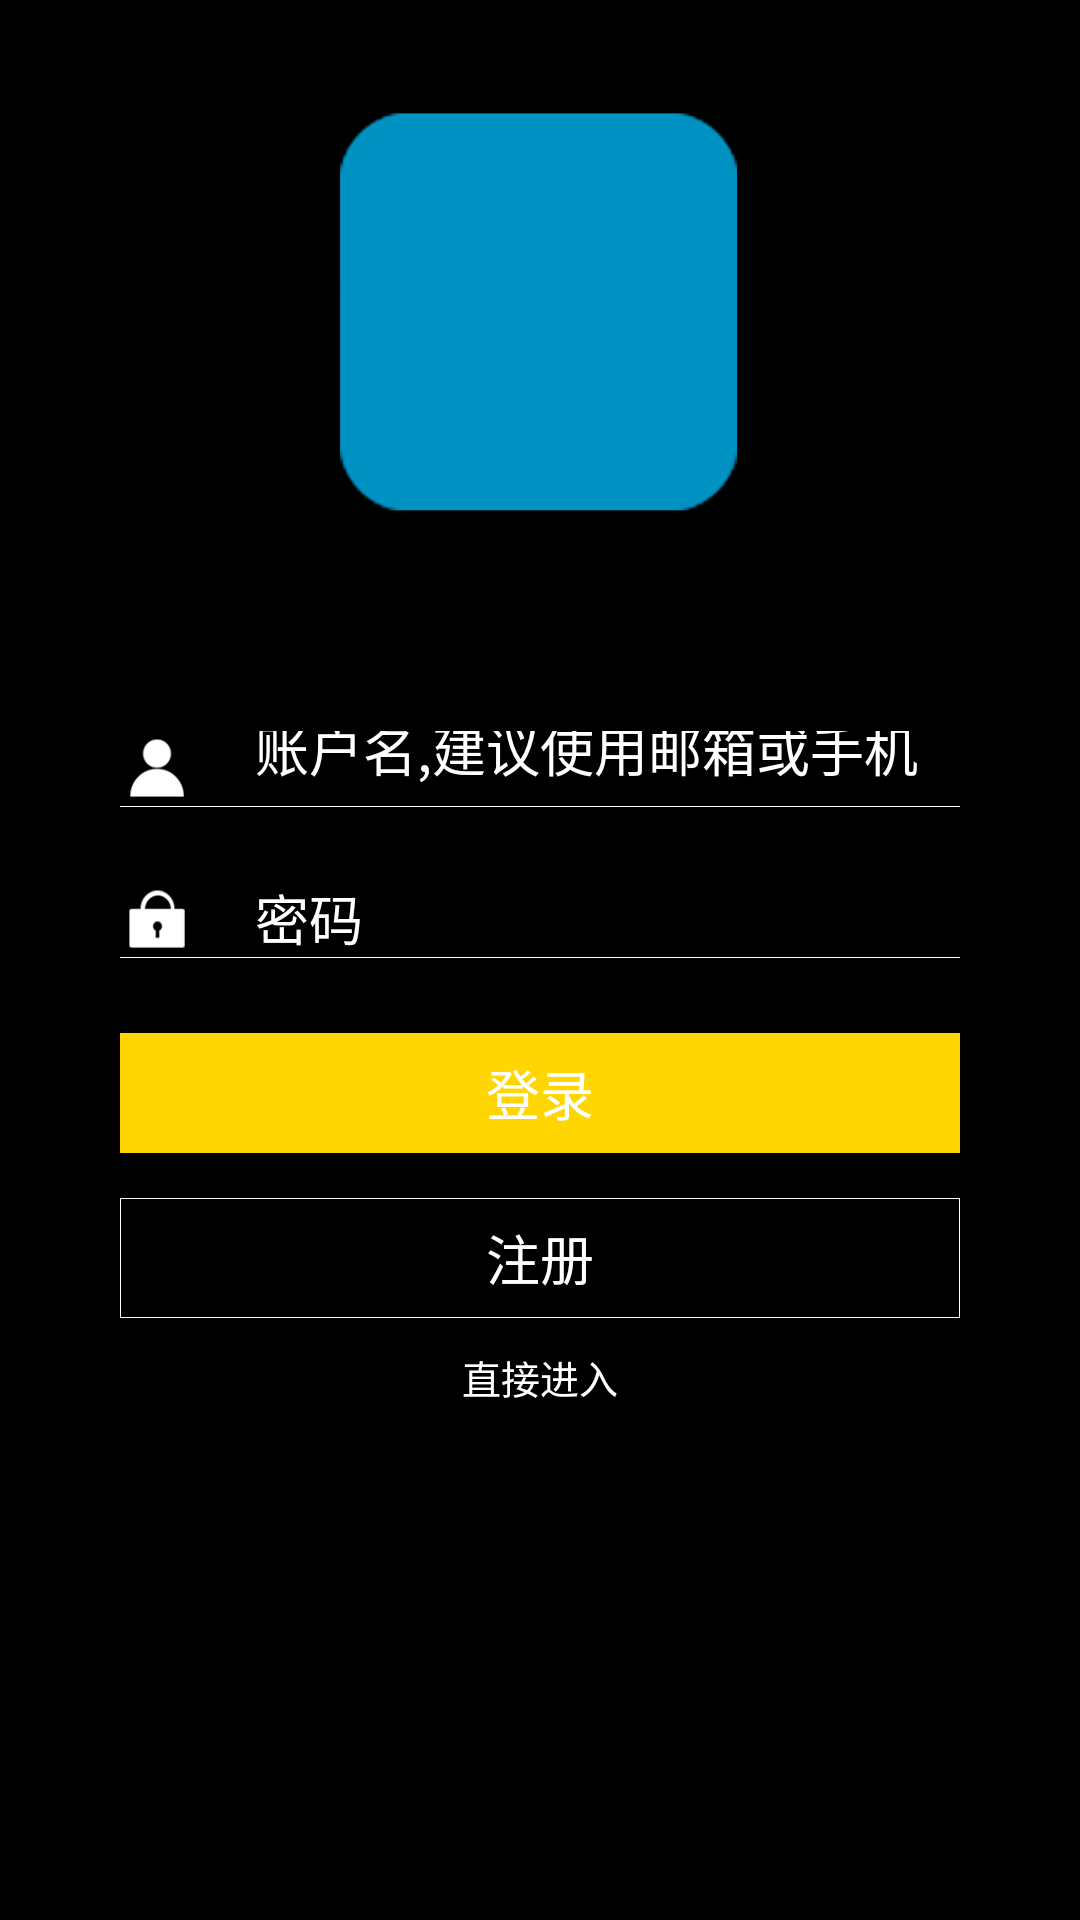

Screen size 1080×1920. Icon name, then its center in pixels as point (x, y):
littlelock: point (157, 919)
littleman: point (157, 768)
